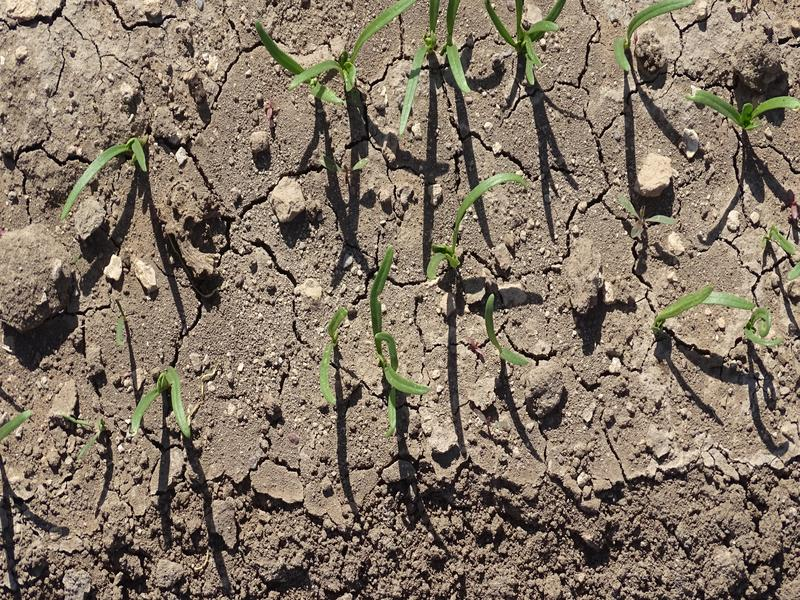Espinaca: (257, 10, 403, 96), (426, 172, 540, 273), (362, 253, 427, 423), (655, 278, 784, 352), (59, 135, 154, 217), (407, 4, 472, 118), (486, 2, 562, 81), (603, 3, 679, 75), (124, 368, 204, 436), (686, 87, 794, 133), (317, 303, 352, 408), (481, 294, 530, 369)
